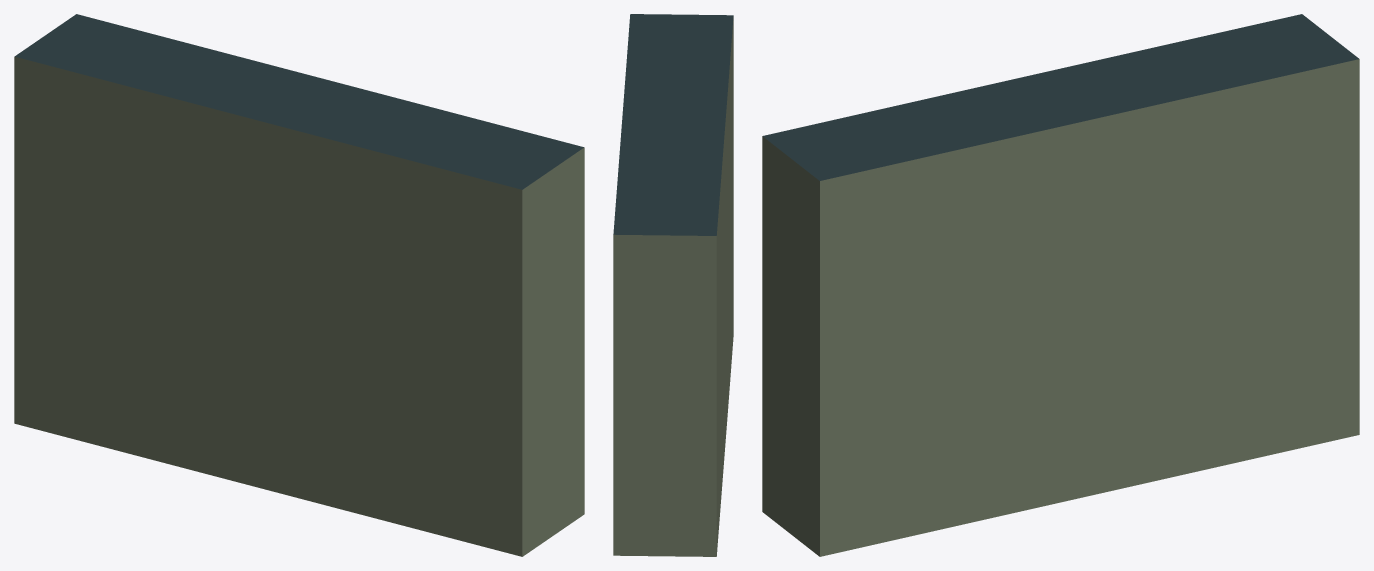
The model's file is nyc-1022649-0.glb.
The picture shows the model from 3 angles, left to right: view 1: azimuth 30°, elevation 25°; view 2: azimuth 150°, elevation 25°; view 3: azimuth 270°, elevation 25°; orthographic projection. The views are drawn at different scales.
Parts seen in each view (by area): view 1: nyc-1022649-0; view 2: nyc-1022649-0; view 3: nyc-1022649-0.
Part boxes in pixels (bbox=[...]): nyc-1022649-0: bbox=[14, 14, 584, 556]; nyc-1022649-0: bbox=[613, 14, 733, 556]; nyc-1022649-0: bbox=[762, 14, 1359, 556].
Bounding box in the file's own units: 15.4 × 16.15 × 23.26.
